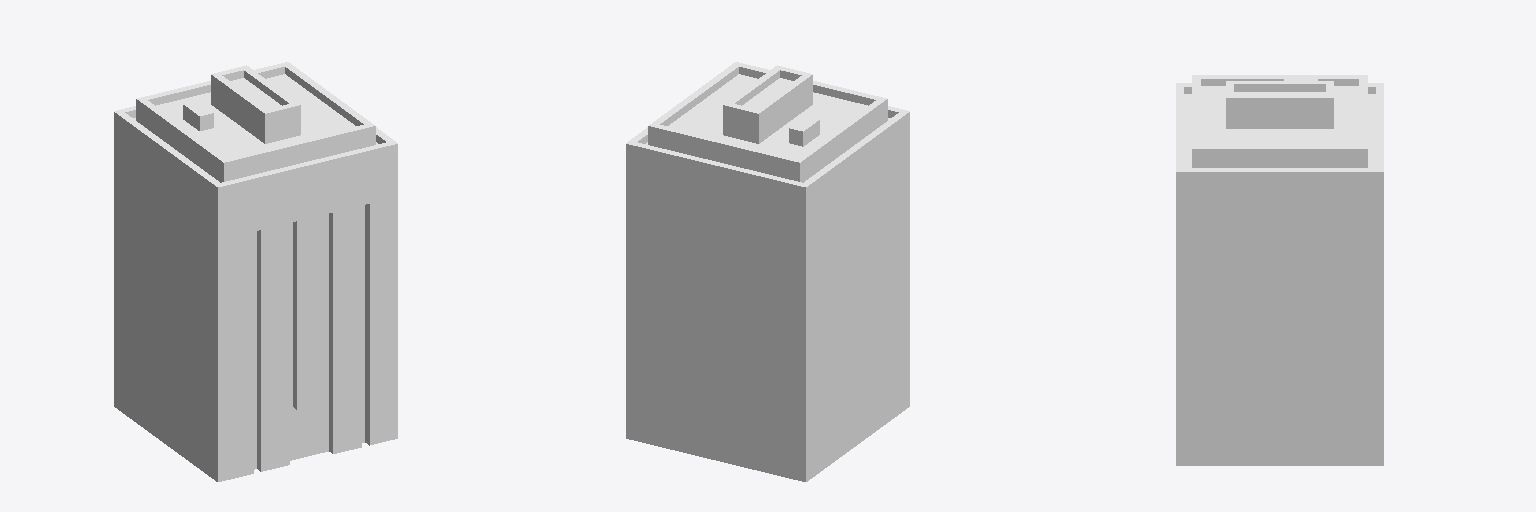
The model's file is ThePortlandBuilding.obj.
3 views of the same model, side by side, from view 1: azimuth 30°, elevation 25°; view 2: azimuth 150°, elevation 25°; view 3: azimuth 270°, elevation 25° (orthographic).
Size of the model in its own units: 25 by 44 by 25.